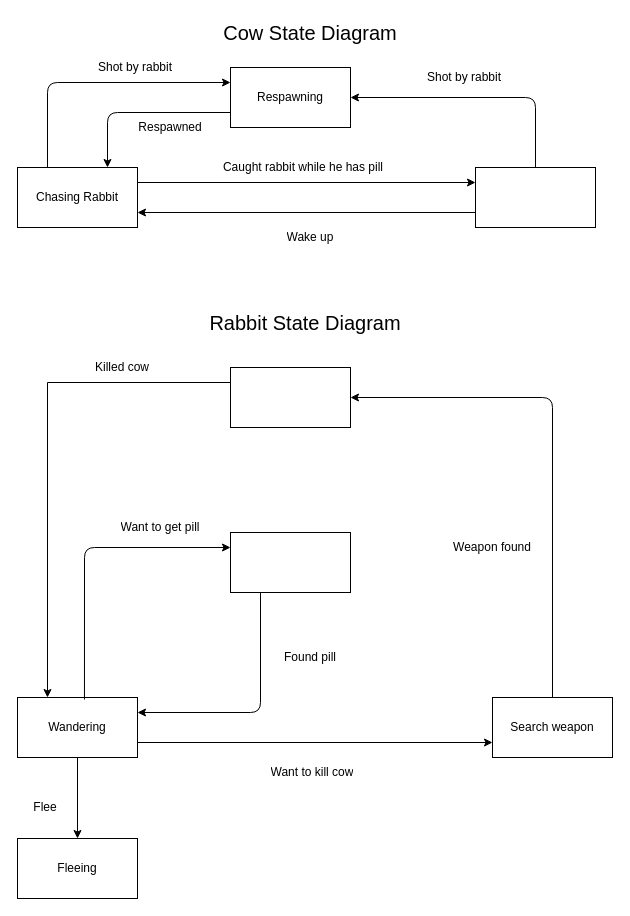
Some shapes in this 630 by 916 pixel diagram are drawn without their labels. The centre of each missing label's shape, as x and y in pixels:
"Search Pill" belongs at point 290,562.
"Shoot Cow" belongs at point 290,397.
"Sleeping" belongs at point 535,197.
